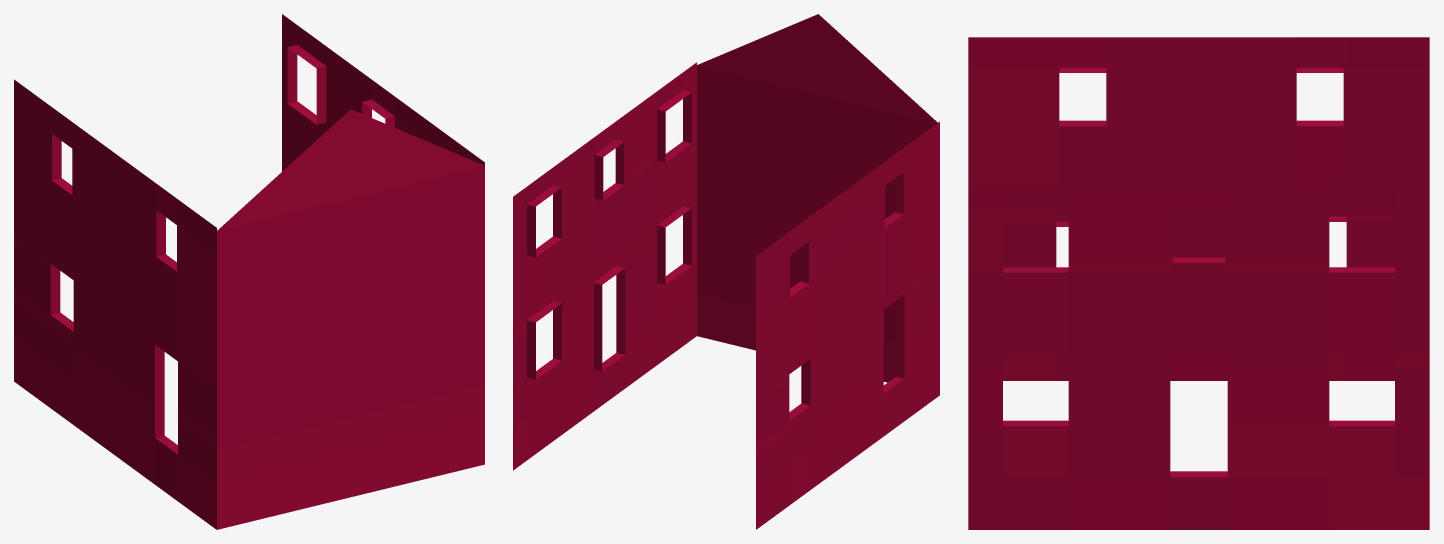
The model's file is SM_Bld_203_Masonry.glb.
3 renders of one model, left to right at view 1: azimuth 30°, elevation 25°; view 2: azimuth 150°, elevation 25°; view 3: azimuth 270°, elevation 25°, orthographic. The views are drawn at different scales.
Parts seen in each view (by area): view 1: SM_Bld_203_Masonry; view 2: SM_Bld_203_Masonry; view 3: SM_Bld_203_Masonry.
Part boxes in pixels (x1,y1,x2,y2): SM_Bld_203_Masonry: (14,14,484,529); SM_Bld_203_Masonry: (513,14,939,529); SM_Bld_203_Masonry: (968,37,1429,529).
Bounding box in the file's own units: 6.01 × 8.31 × 7.87.
